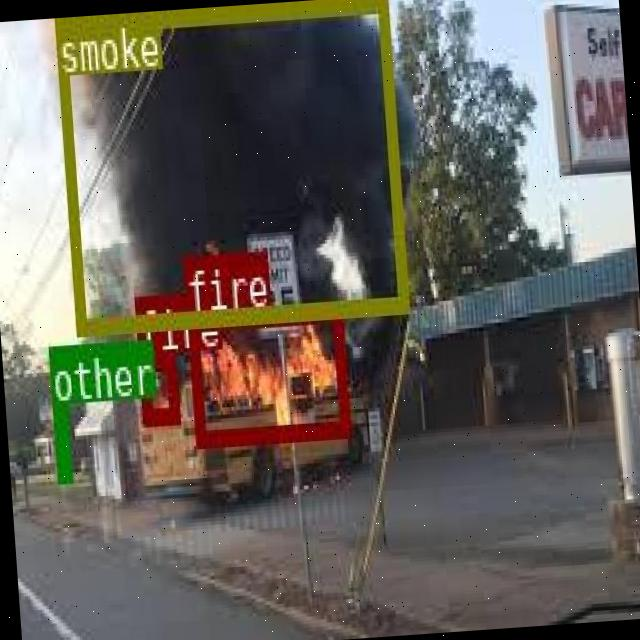fire: (184, 305, 348, 445), (137, 352, 178, 422)
smoke: (51, 0, 407, 333)
